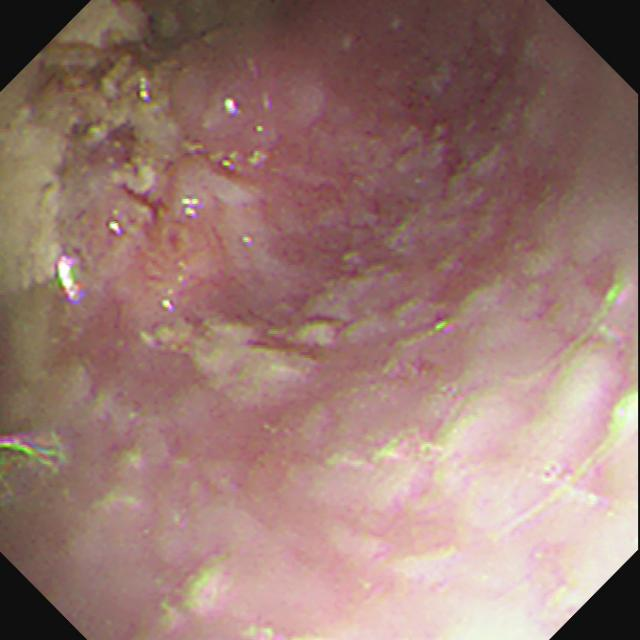B: (2, 2, 159, 320)
U: (56, 257, 78, 302), (181, 196, 201, 221), (223, 98, 243, 121), (139, 77, 150, 105), (162, 290, 175, 312), (109, 220, 124, 238)
